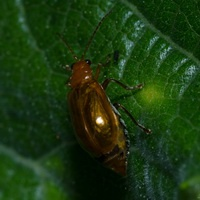insect: (56, 8, 151, 175)
